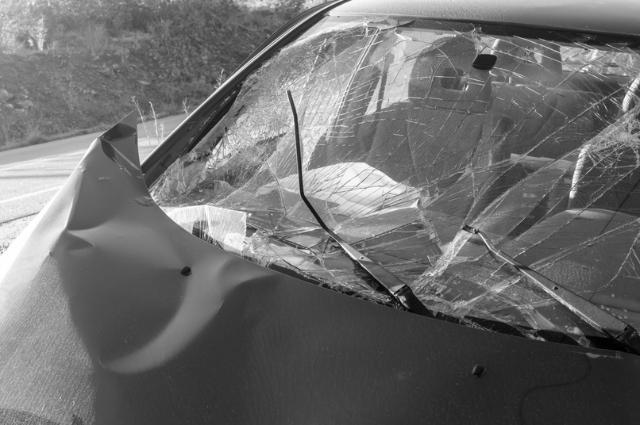Bonnet: (25, 135, 275, 424)
Windshield: (181, 19, 632, 340)
